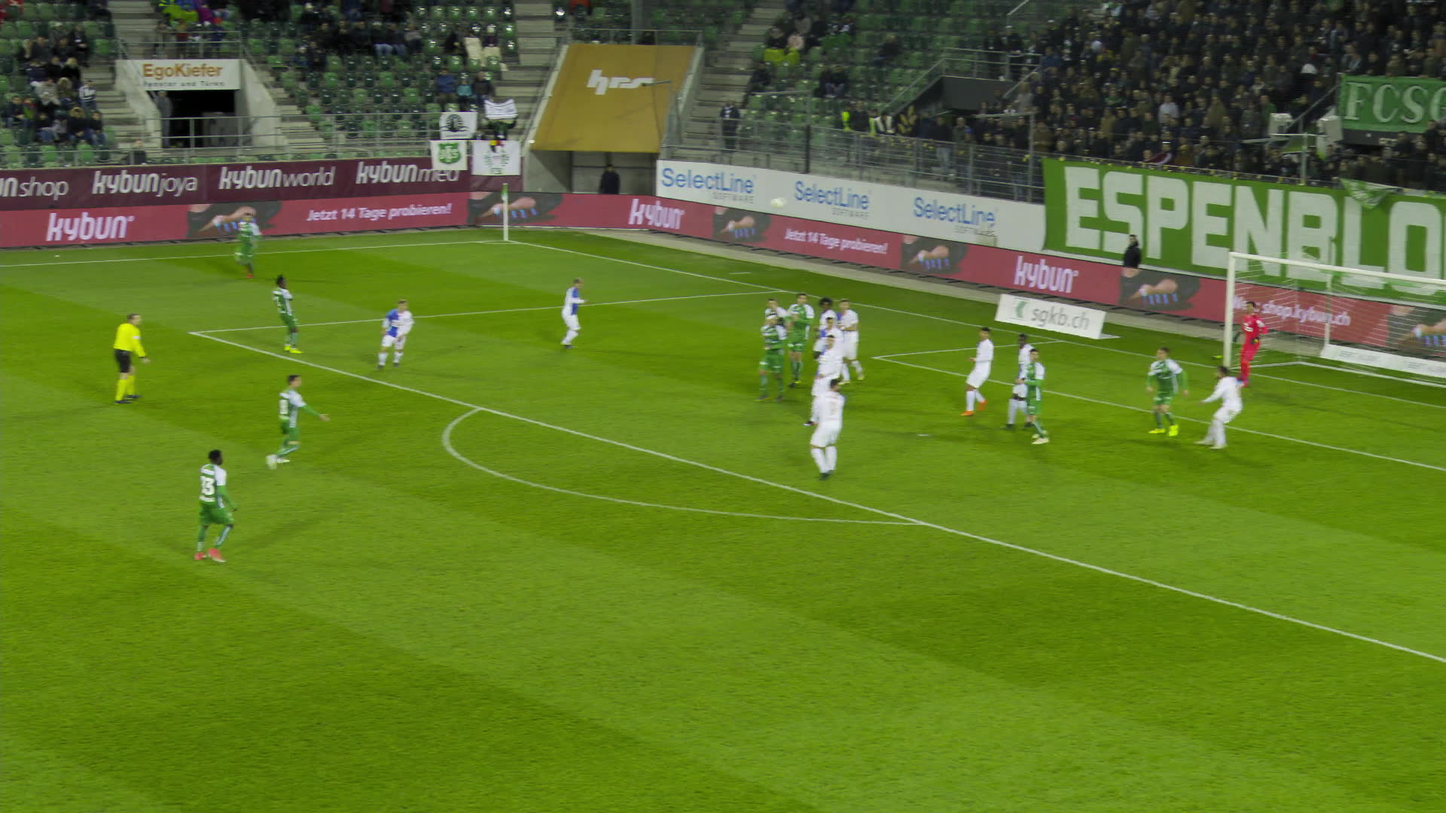ball: (771, 196, 787, 207)
player: (272, 371, 334, 467), (194, 449, 239, 562), (810, 379, 853, 480), (1149, 342, 1190, 434), (1209, 364, 1252, 451), (1007, 335, 1046, 428), (755, 315, 794, 403), (962, 326, 1000, 415), (787, 294, 820, 389), (1020, 346, 1051, 444), (1234, 302, 1270, 383), (815, 333, 846, 423), (272, 275, 307, 354), (816, 315, 847, 403), (560, 276, 597, 349), (380, 299, 417, 369), (837, 296, 866, 383), (765, 299, 794, 382), (236, 210, 269, 279), (819, 297, 839, 369)
referee: (108, 313, 151, 404)
